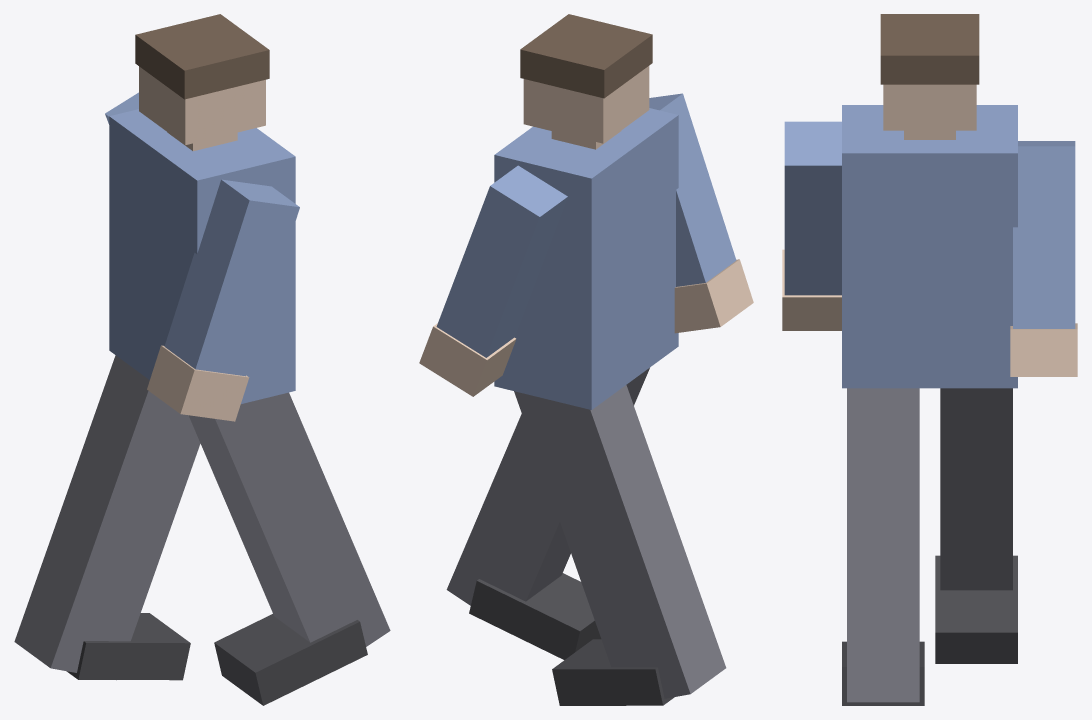
File: SM_WbPed2B_2.glb
3 views of the same model, side by side, from view 1: azimuth 30°, elevation 25°; view 2: azimuth 150°, elevation 25°; view 3: azimuth 270°, elevation 25° (orthographic).
Visible parts, largest first — view 1: SM_WbPed2B_2; view 2: SM_WbPed2B_2; view 3: SM_WbPed2B_2.
Boxes of the visible parts, box(x1,y1,x2,y2) form: SM_WbPed2B_2: box(14, 14, 390, 705); SM_WbPed2B_2: box(419, 14, 753, 705); SM_WbPed2B_2: box(782, 14, 1077, 705).
Bounding box in the file's own units: 0.8522 × 1.76 × 0.741.
